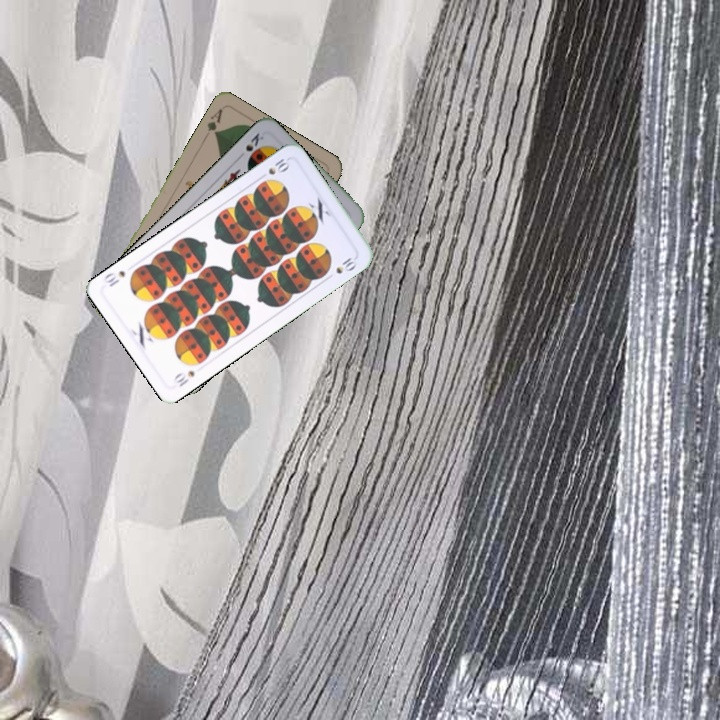GA: (203, 104, 226, 138)
S10: (255, 154, 292, 182), (169, 366, 197, 390)
SK: (242, 129, 266, 154)
